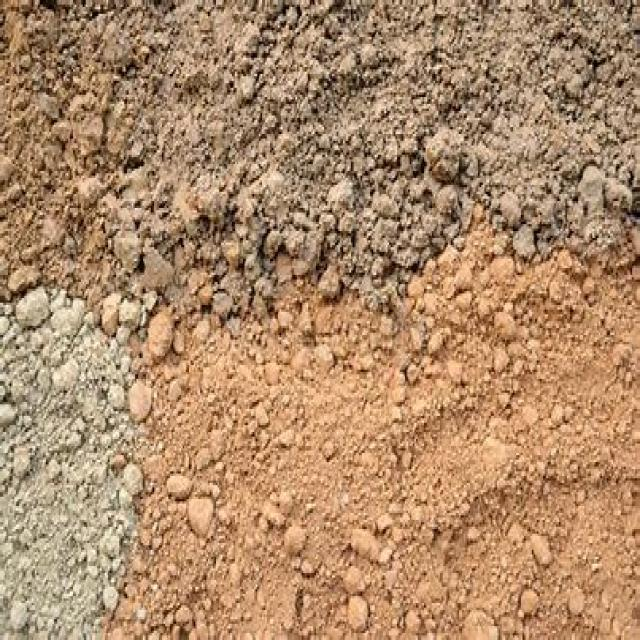Alluvial Soil: (185, 20, 610, 197)
Red Soil: (190, 356, 620, 622)
